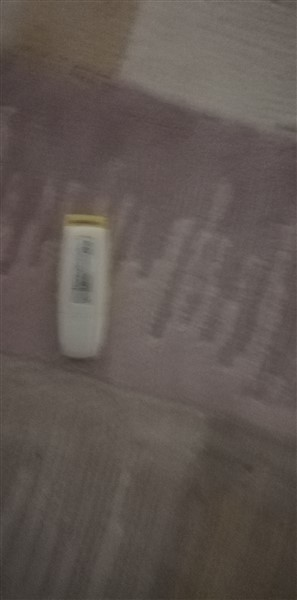flash disk: (51, 213, 122, 366)
